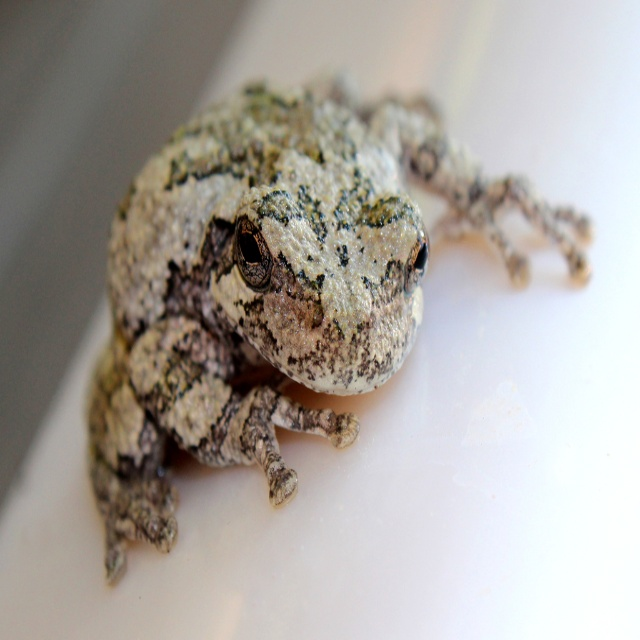Frog: (84, 76, 592, 587)
